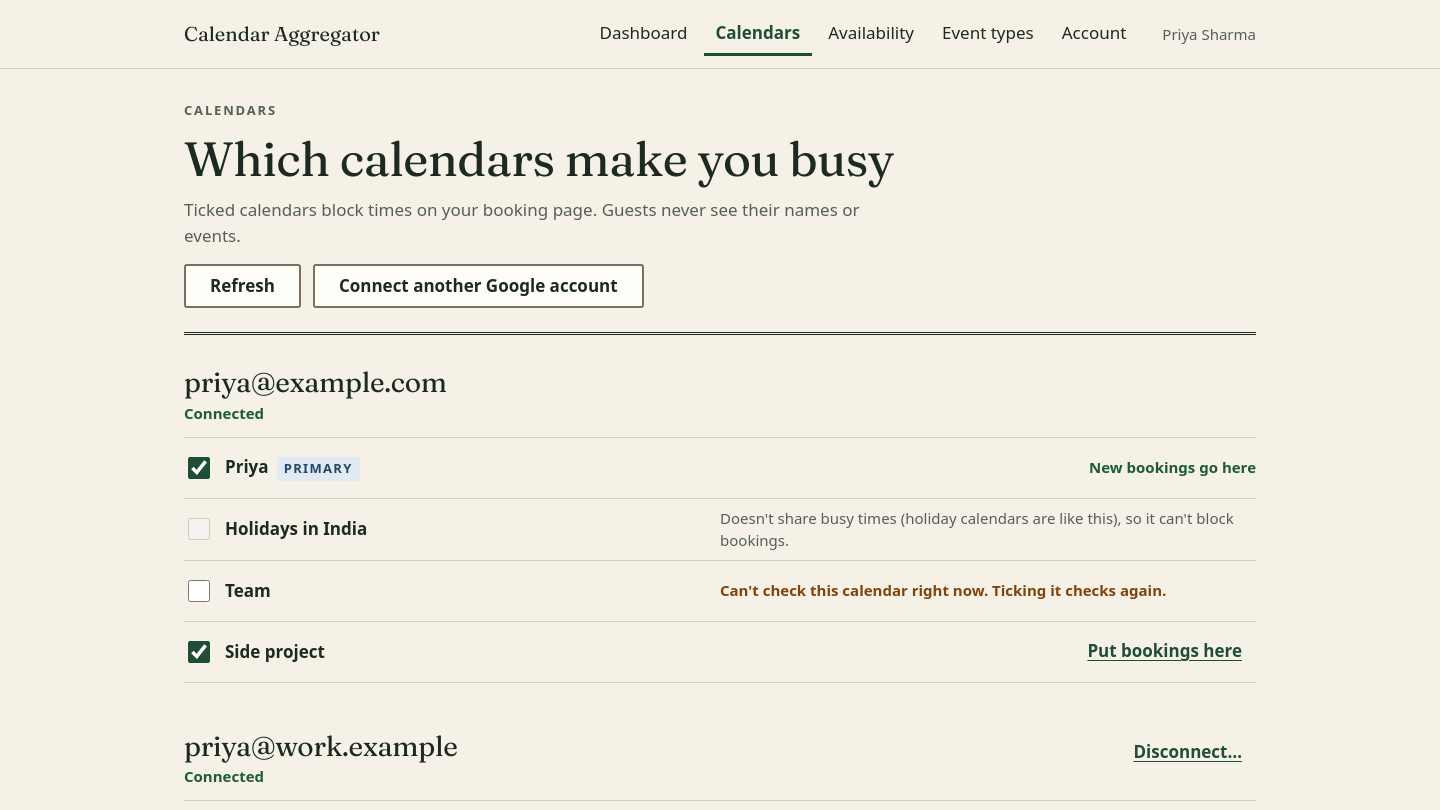
it: the calendars page › disconnects an account after confirmation and says whether Google access was revoked
Click the button "Disconnect…" at (1188, 753), box [1120,731,1256,775]
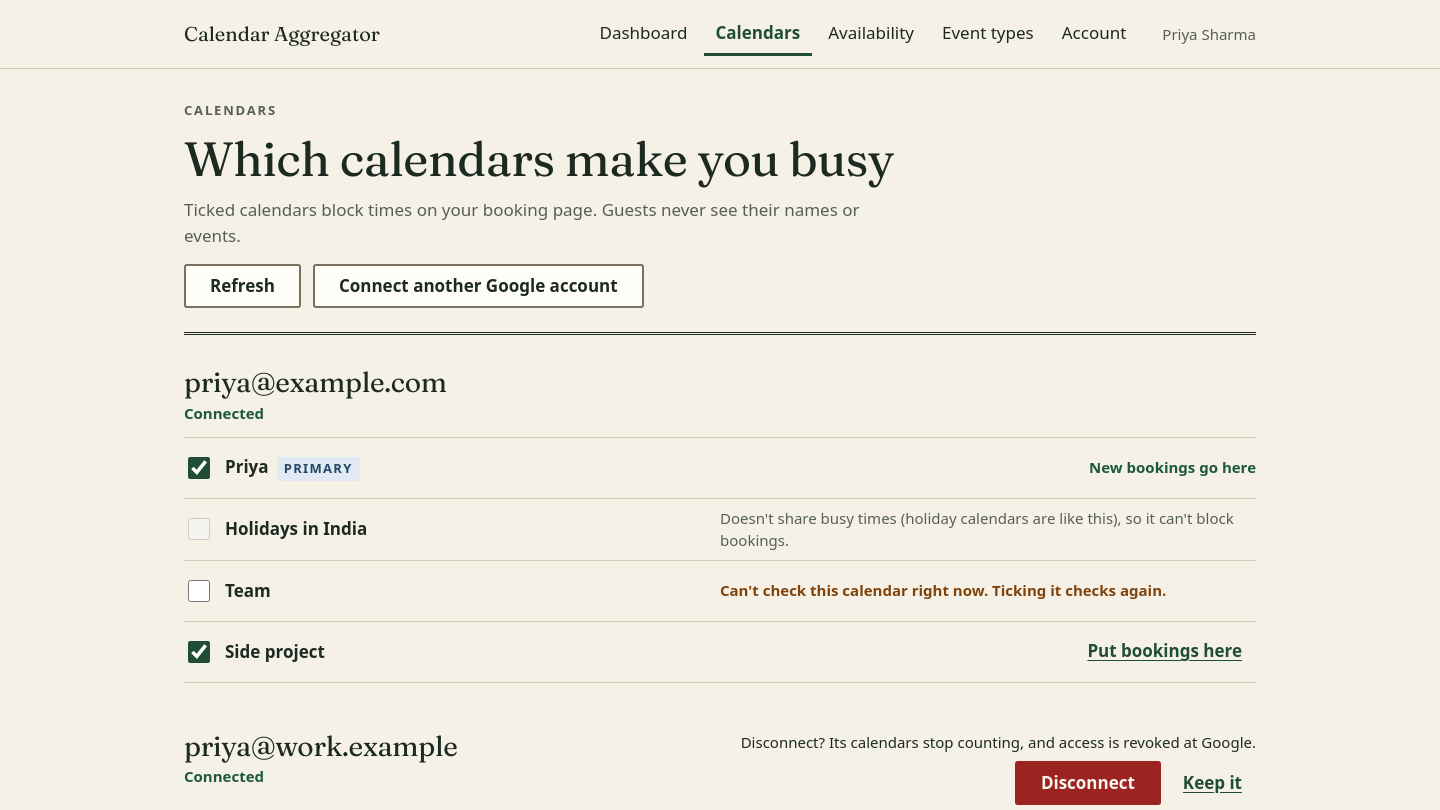
Click the button "Disconnect" at (1088, 783), box [1015,761,1161,805]
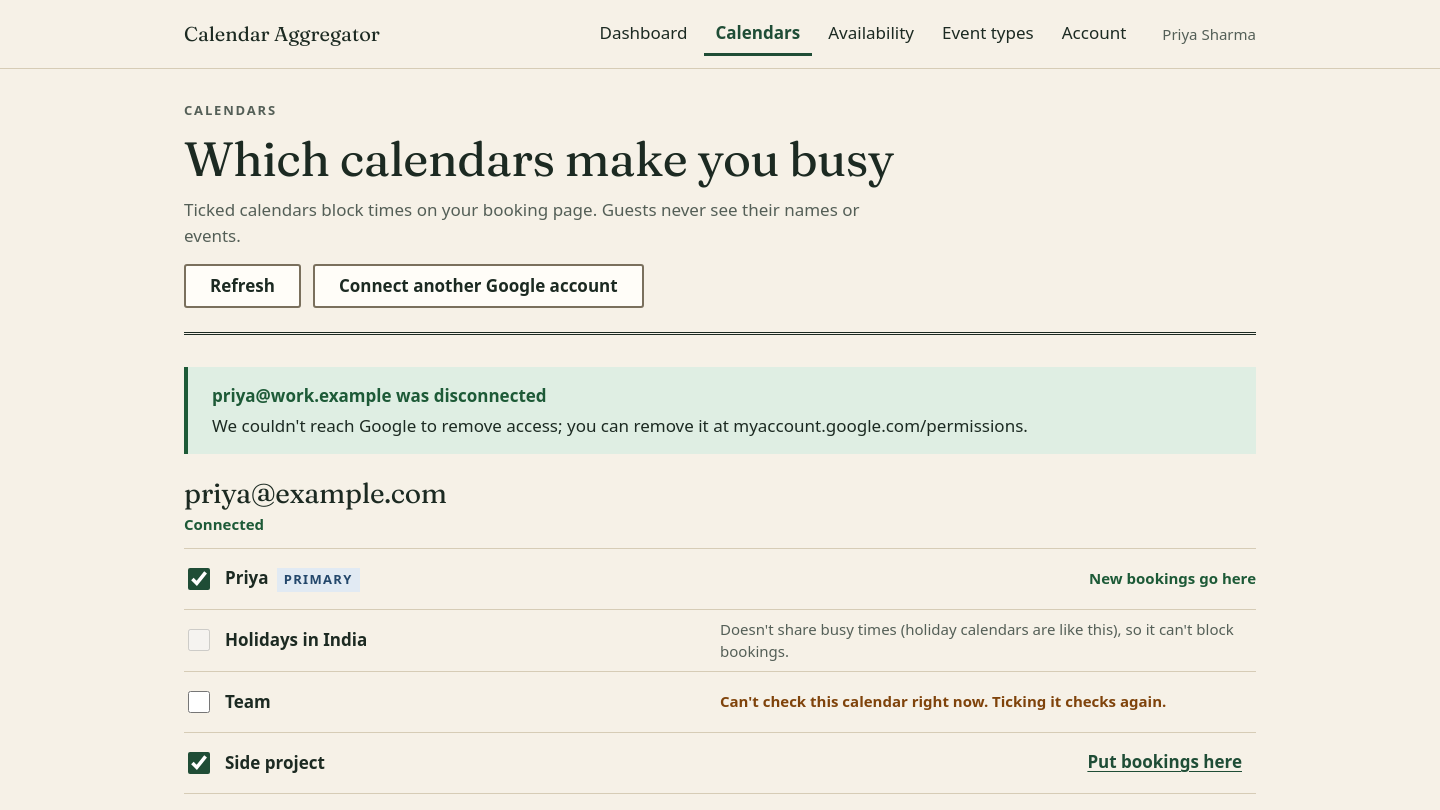
Now the text "priya@work.example was disconnected" is shown, box [212,384,547,407]
Now the text "We couldn't reach Google to remove access" is shown, box [212,414,1028,437]
